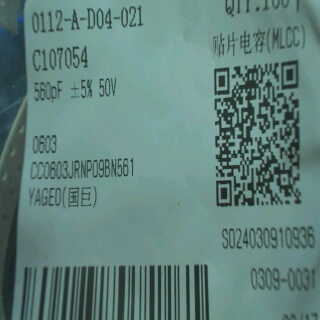560pF: (28, 75, 66, 105)
